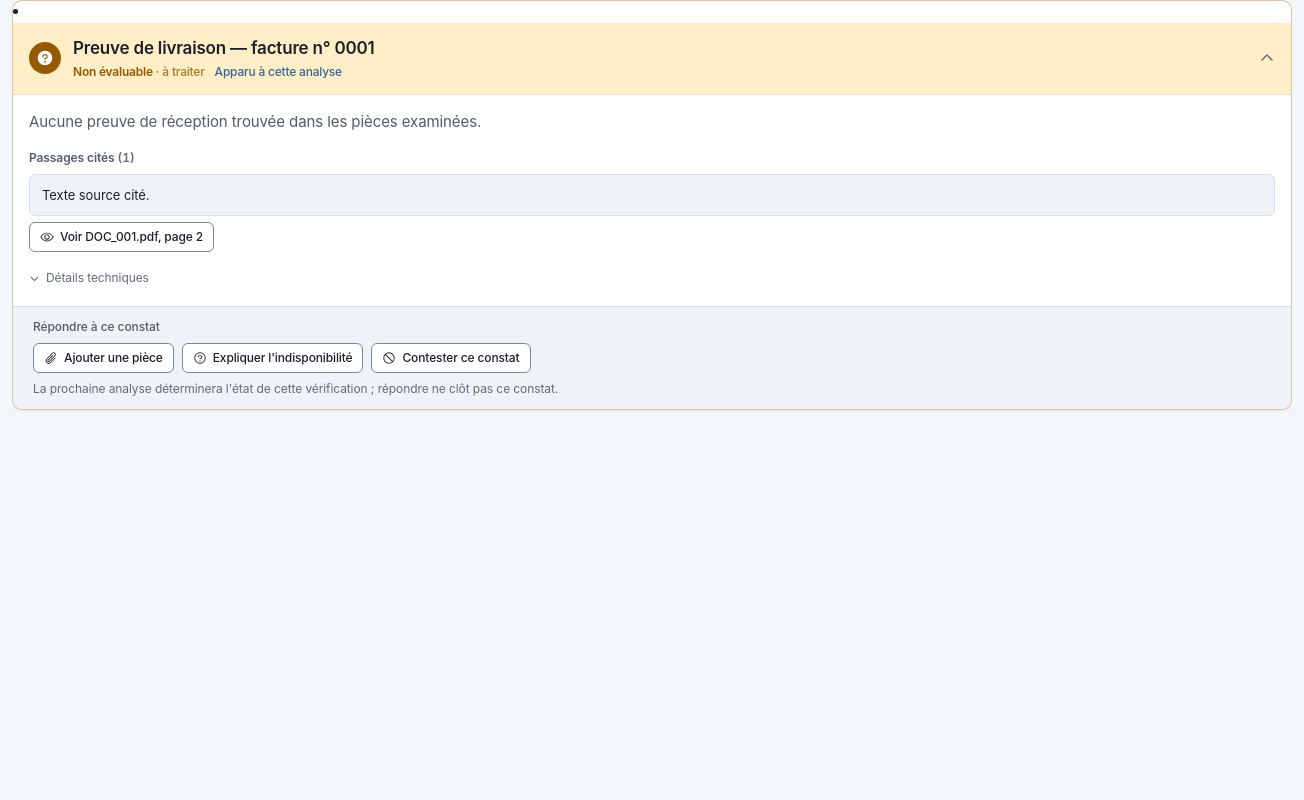
Test case: FindingCard › requires selecting an owned document before submitting add_evidence
The image size is (1304, 800).
Click the button "Ajouter une pièce" at [103, 358], box [33,342,174,372]
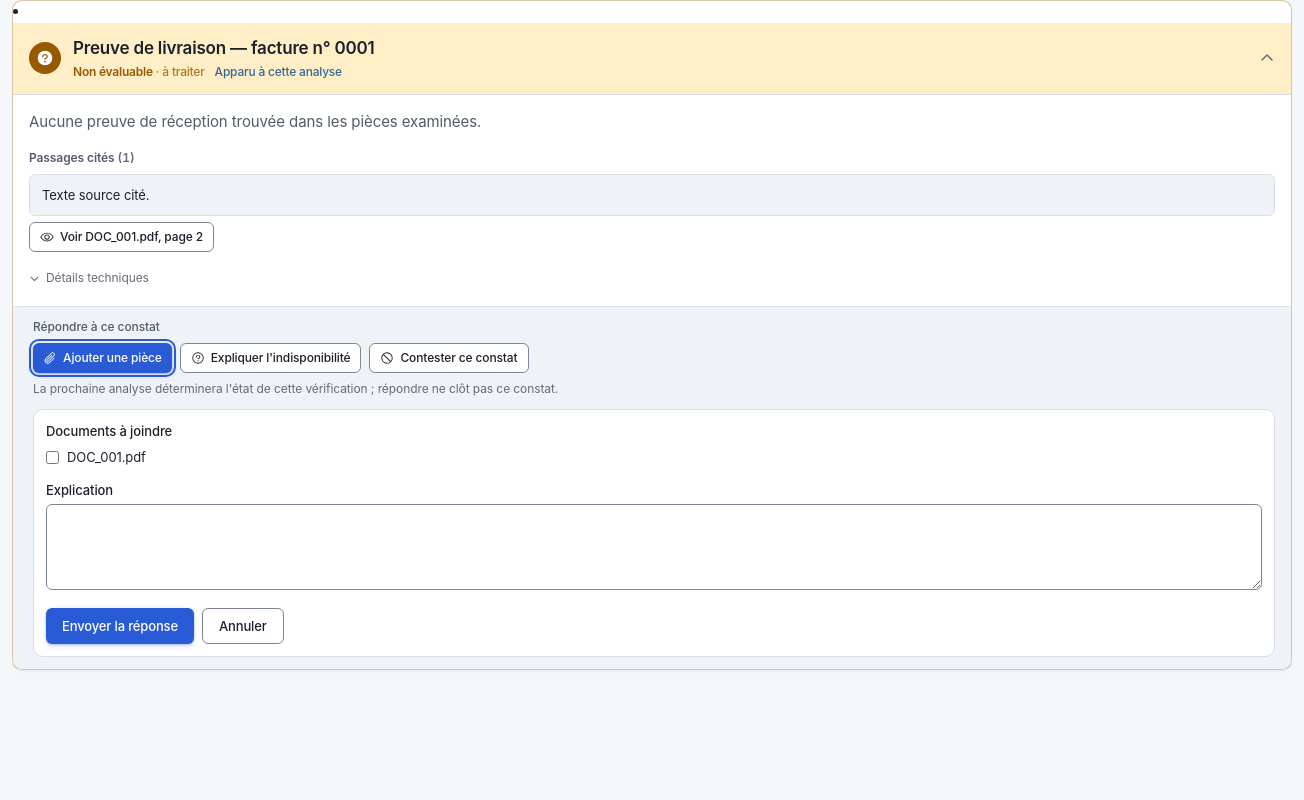
Click the button "Envoyer la réponse" at [120, 626], box [46,608,194,644]
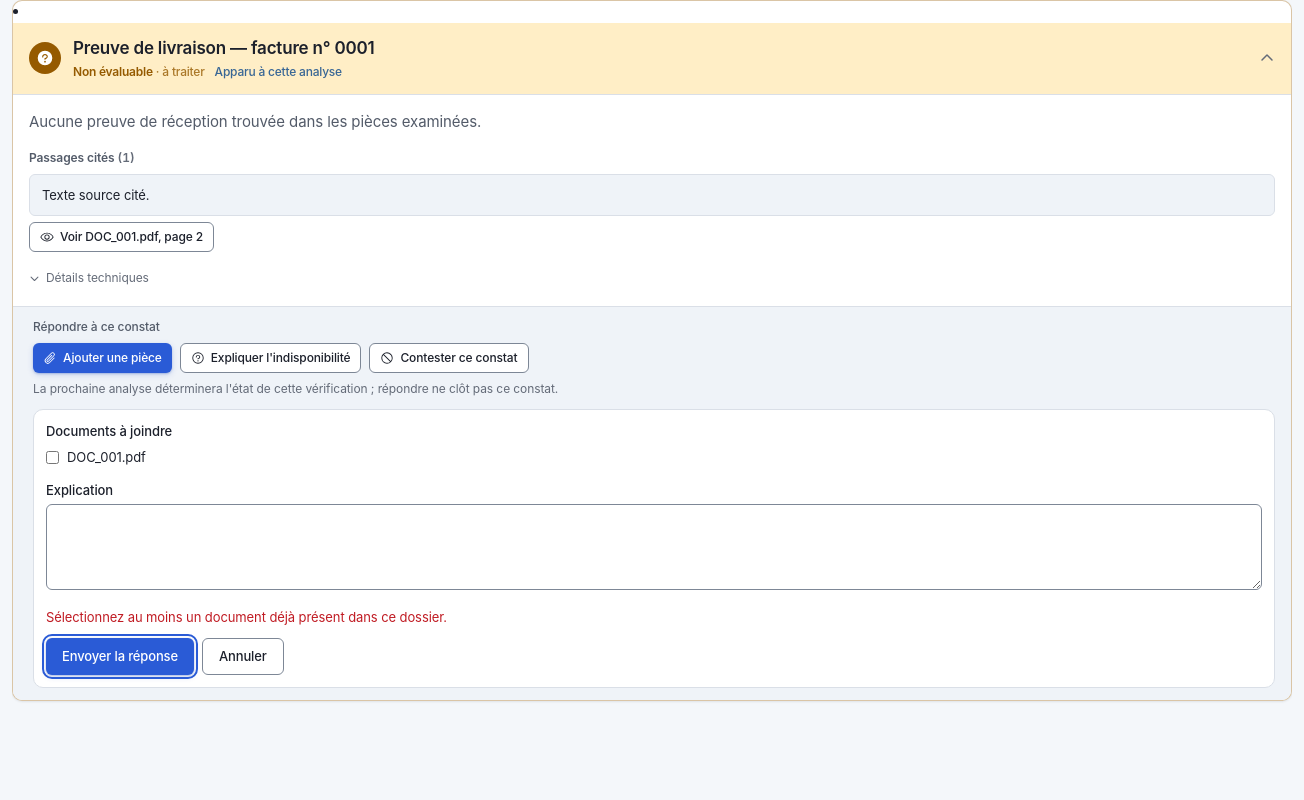
Result: the text "Sélectionnez au moins un document déjà présent dans ce dossier." is shown at [46,609,447,625]
